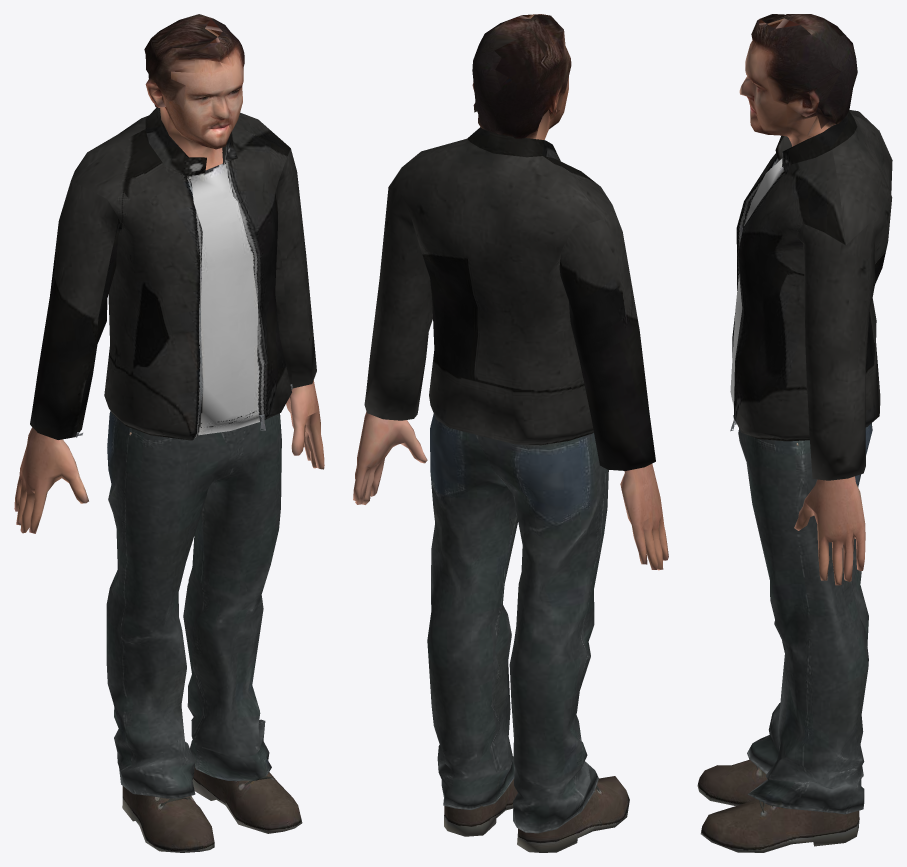
The model's file is ludek chamber.fbx.
3 views of the same model, side by side, from view 1: azimuth 30°, elevation 25°; view 2: azimuth 150°, elevation 25°; view 3: azimuth 270°, elevation 25° (orthographic).
Parts seen in each view (by area): view 1: luděk.001; view 2: luděk.001; view 3: luděk.001.
Part boxes in pixels (<box>): luděk.001: <box>14,14,324,852</box>; luděk.001: <box>353,14,668,852</box>; luděk.001: <box>697,14,892,852</box>.
Size of the model in its own units: 72.17 by 183 by 40.4.
